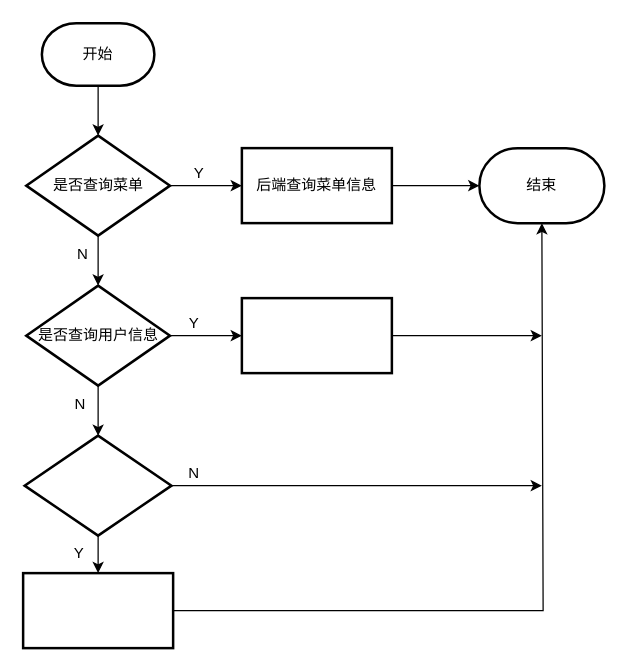
This 626x670 diagram has some shape labels left out. Each missing label, with the box of its shape:
是否修改用户信息: (23, 434, 172, 536)
调用后端接口 修改用户信息: (21, 571, 174, 649)
调用后端接口 查询用户信息: (240, 296, 392, 374)
